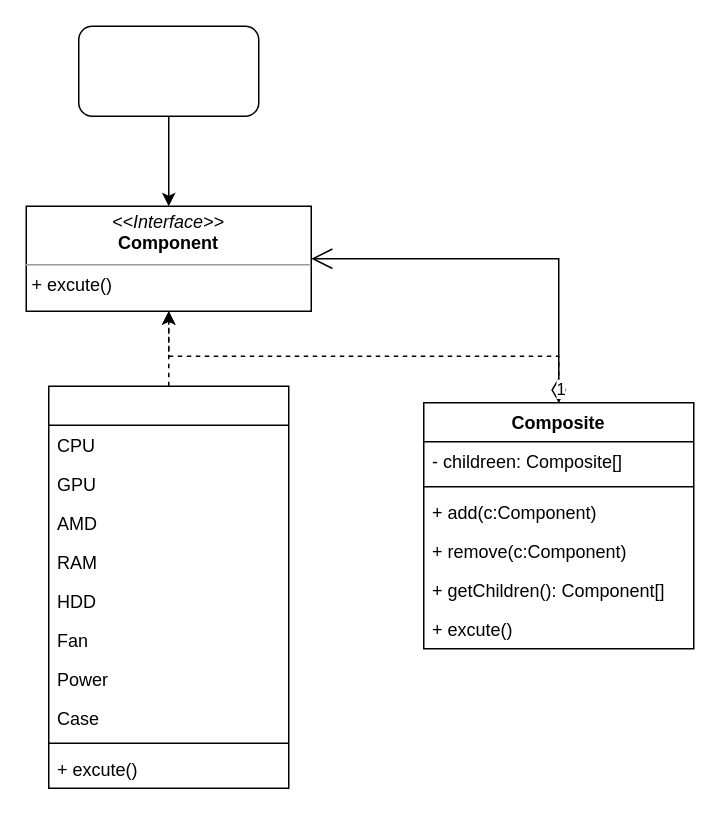
This 720x819 diagram has some shape labels left out. Each missing label, with the box of its shape:
Client: (77, 25, 259, 116)
HardWare: (47, 385, 289, 788)
